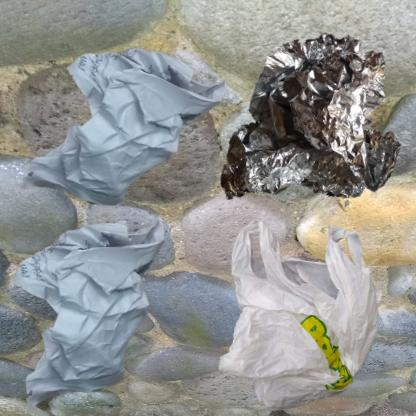aluminio: (213, 10, 416, 256)
bolsa: (213, 213, 395, 416)
papel: (10, 10, 264, 287), (10, 213, 171, 412)
